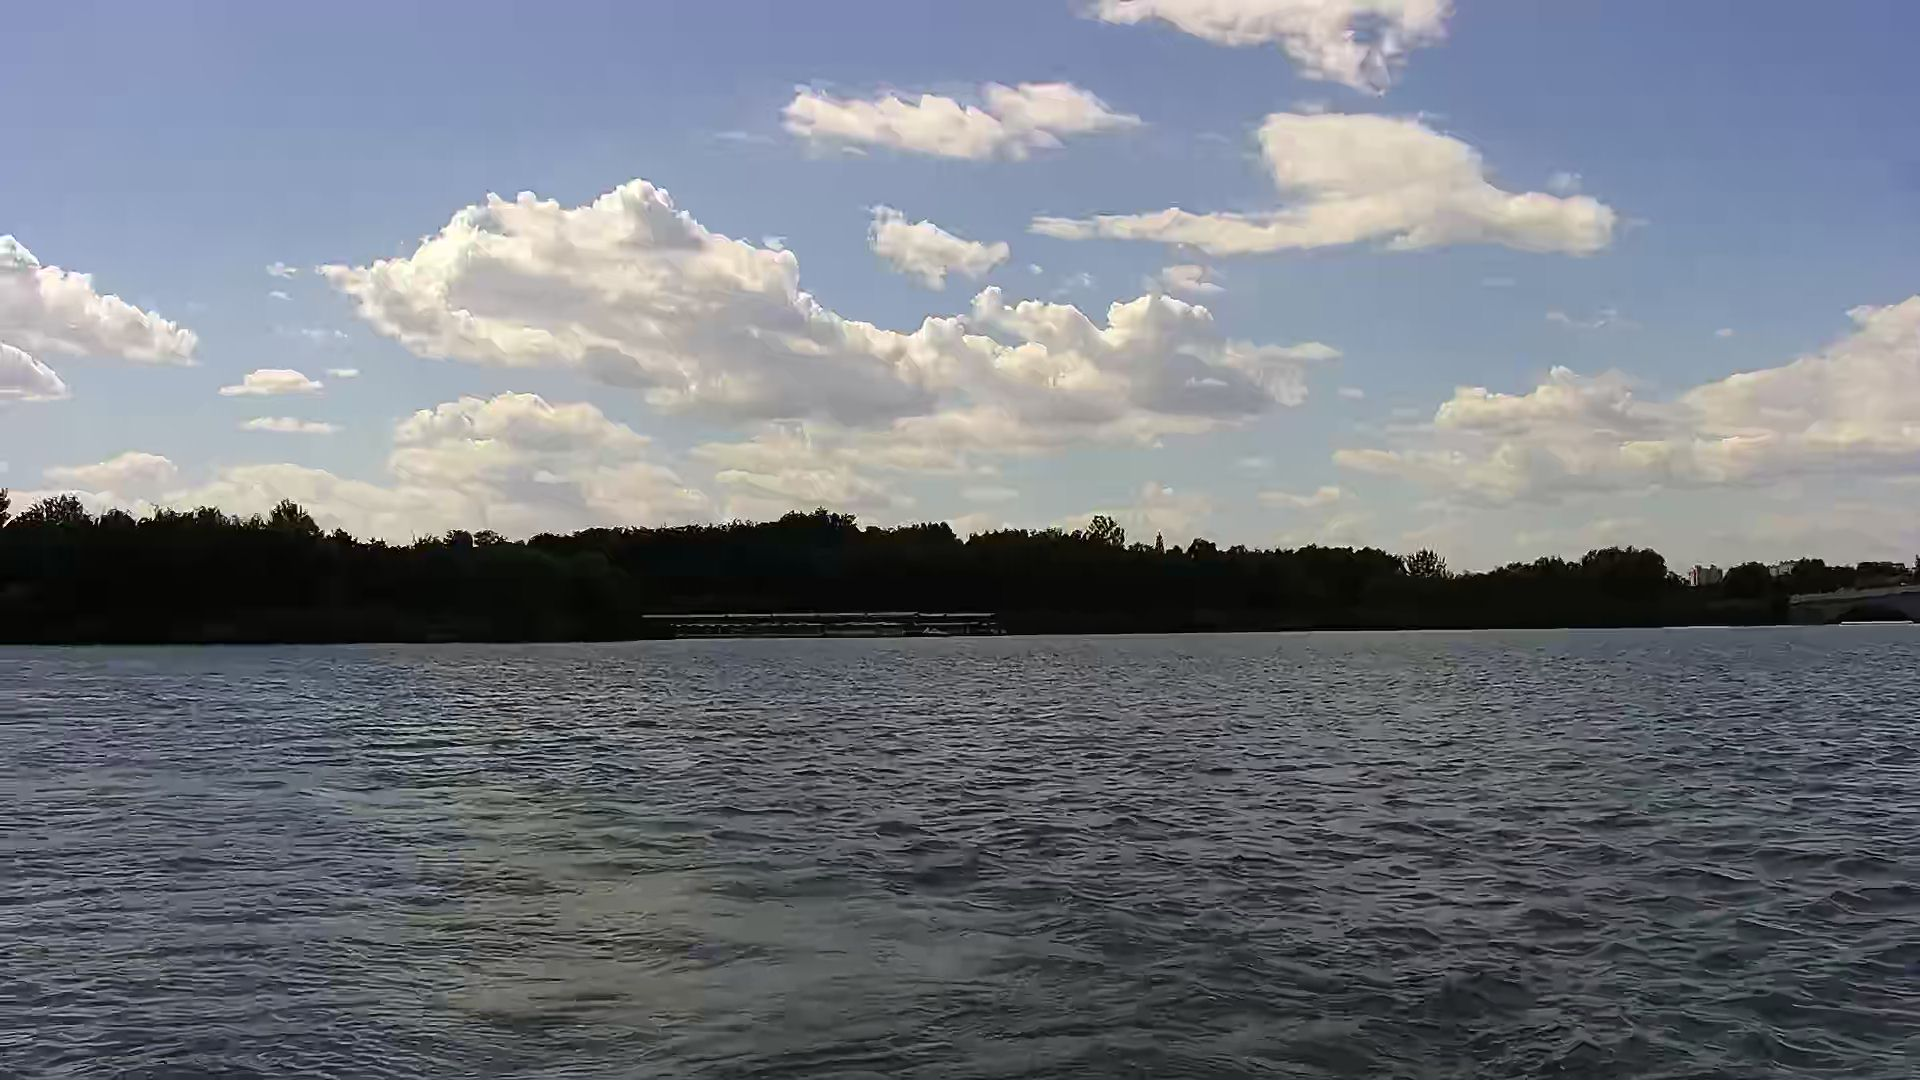harbor: (655, 611, 1001, 640)
